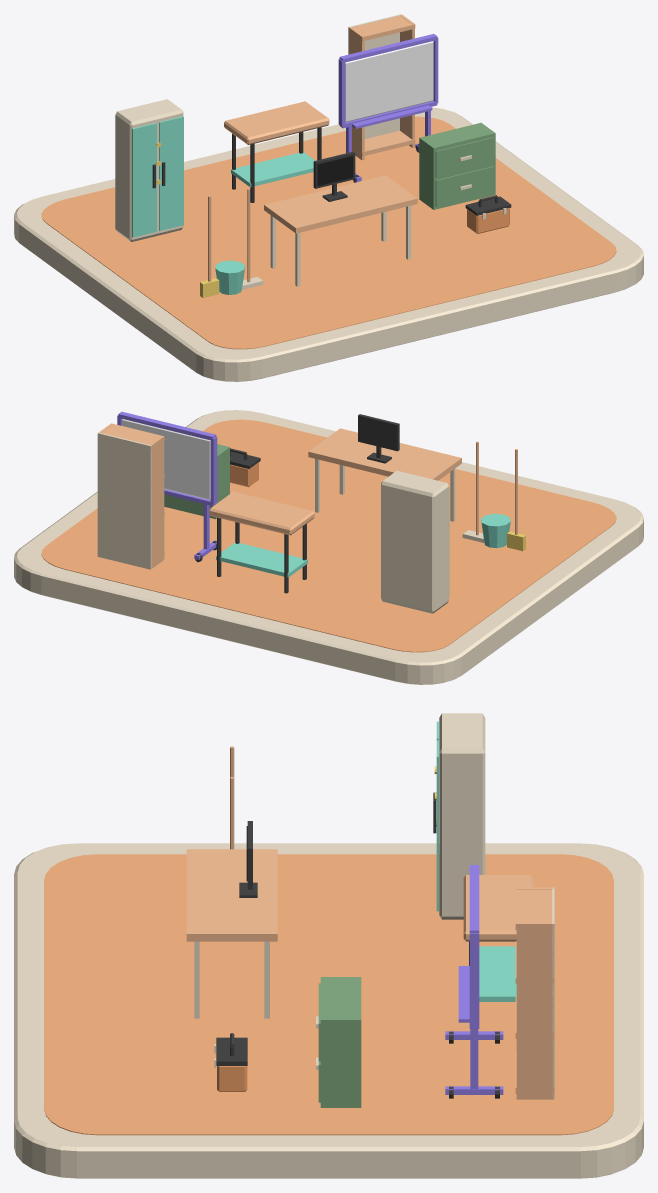
Rendered from room.fbx.
3 renders of one model, top to bottom at view 1: azimuth 30°, elevation 25°; view 2: azimuth 150°, elevation 25°; view 3: azimuth 270°, elevation 25°, orthographic. The views are drawn at different scales.
Visible parts, largest first — view 1: COM-02 Floor Surface, COM-01 Rounded Base Direct, Top, Cabinet, Writing surface, Equipment case, Door, Worktop, Door.001, Lower shelf, Frame, Back (+9 smaller); view 2: COM-02 Floor Surface, COM-01 Rounded Base Direct, Equipment case, Back, Top, Writing surface, Worktop, Lower shelf, Side, Frame, Cabinet, Bucket (+4 smaller); view 3: COM-02 Floor Surface, COM-01 Rounded Base Direct, Top, Equipment case, Side.001, Cabinet, Worktop, Lower shelf, Shelf.003, Frame upright.001, Lid, Box (+3 smaller).
Boxes of the visible parts, <box> form: COM-02 Floor Surface: <box>41,116,616,349</box>; COM-01 Rounded Base Direct: <box>14,107,643,381</box>; Top: <box>264,175,417,286</box>; Cabinet: <box>419,122,495,209</box>; Writing surface: <box>345,41,433,122</box>; Equipment case: <box>115,99,183,241</box>; Door: <box>132,123,156,237</box>; Worktop: <box>224,101,329,144</box>; Door.001: <box>159,116,183,230</box>; Lower shelf: <box>231,152,315,187</box>; Frame: <box>313,151,355,201</box>; Back: <box>348,14,402,138</box>; COM-02 Floor Surface: <box>41,419,616,652</box>; COM-01 Rounded Base Direct: <box>14,410,643,684</box>; Equipment case: <box>381,470,448,613</box>; Back: <box>97,432,151,569</box>; Top: <box>308,428,461,521</box>; Writing surface: <box>122,419,210,500</box>; Worktop: <box>209,491,314,535</box>; Lower shelf: <box>216,542,307,577</box>; Side: <box>149,435,164,568</box>; Frame: <box>358,414,399,463</box>; Cabinet: <box>164,444,229,519</box>; Bucket: <box>481,513,510,548</box>; COM-02 Floor Surface: <box>44,854,613,1135</box>; COM-01 Rounded Base Direct: <box>14,843,643,1178</box>; Top: <box>186,849,277,1018</box>; Equipment case: <box>439,713,485,919</box>; Side.001: <box>516,922,553,1099</box>; Cabinet: <box>316,977,361,1107</box>; Worktop: <box>463,875,533,941</box>; Lower shelf: <box>479,946,516,1001</box>; Shelf.003: <box>515,887,553,930</box>; Frame upright.001: <box>469,933,479,1026</box>; Lid: <box>216,1037,247,1065</box>; Box: <box>217,1066,247,1091</box>.
Bounding box in the file's own units: 600 × 190 × 520.
